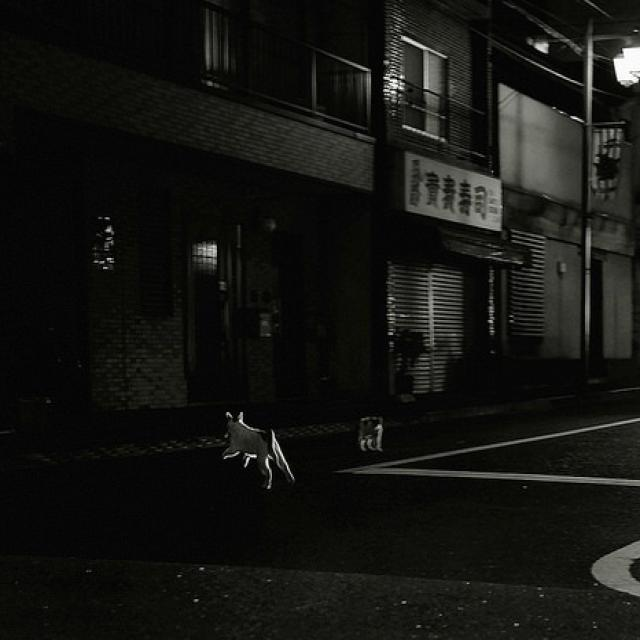Cat: (210, 403, 296, 502)
